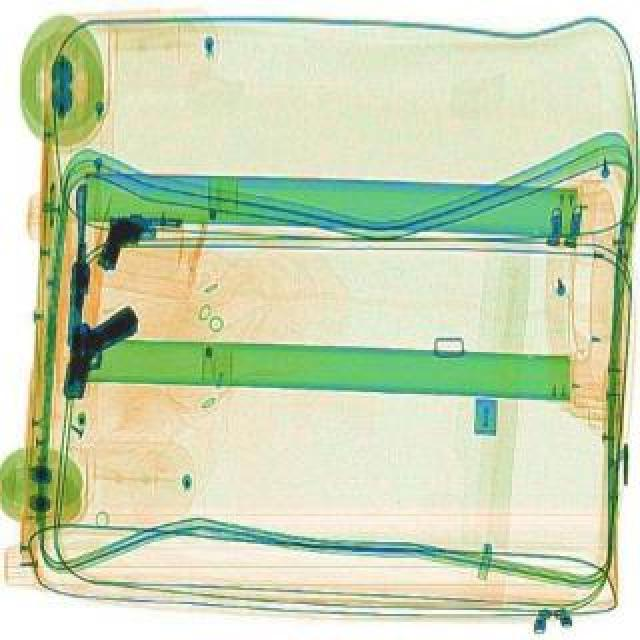gun: (30, 294, 154, 402), (86, 196, 190, 280), (56, 176, 100, 344)
